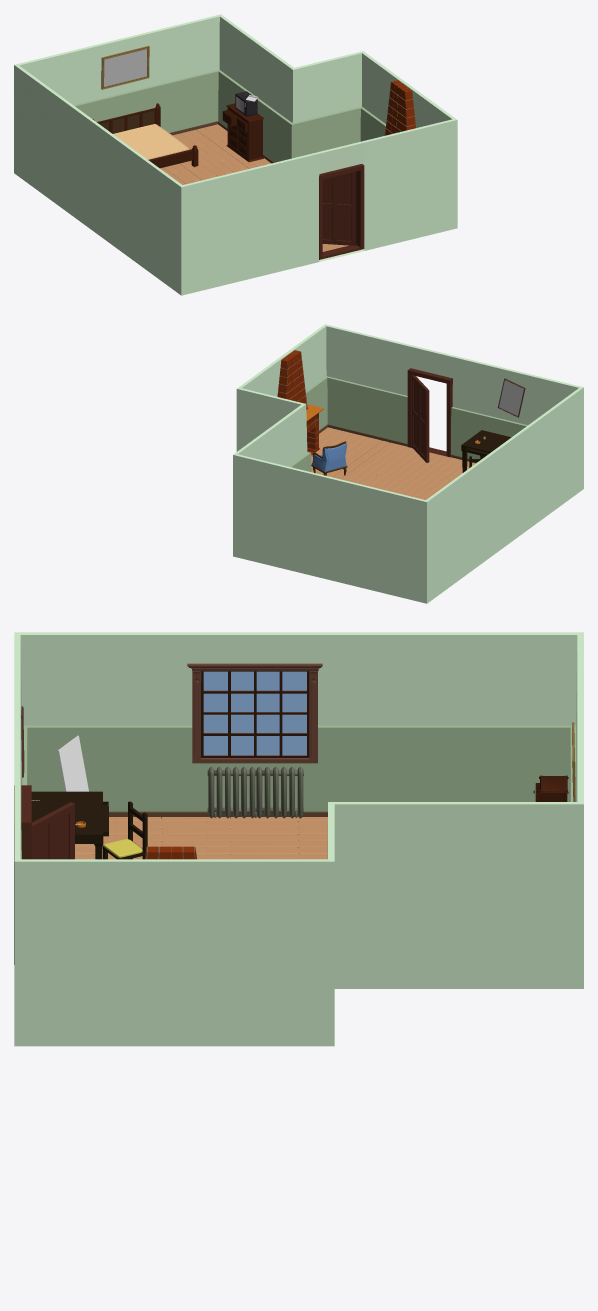
Rendered from Bedroom (1).fbx.
3 views of the same model, one above another, from view 1: azimuth 30°, elevation 25°; view 2: azimuth 150°, elevation 25°; view 3: azimuth 270°, elevation 25° (orthographic). The views are drawn at different scales.
Visible parts, largest first — view 1: Cube.019, Cube.009, Cube.013, Cube.016, Cube.017, Cube.018, Cube.015, Cube.008, Plane.041, Cube.006, Cube.001, mattress (+3 smaller); view 2: Cube.013, Cube.009, Cube.019, Cube.015, Cube.018, Cube.016, Cube.017, Cube.014, Cube.008, Cube.006, Cube.012, MSH_Pillows (+1 smaller); view 3: Cube.009, Cube.018, Cube.016, wind_low, Cube.015, Cube.021, Cube.012, Cube.008, Cube.019, Cube.013, Componen34, Cube.006.
Part boxes in pixels (x1,y1,x2,y2): Cube.019: (181,119,457,295); Cube.009: (14,65,182,295); Cube.013: (14,14,220,132); Cube.016: (218,14,293,163); Cube.017: (291,51,362,158); Cube.018: (360,51,456,141); Cube.015: (160,124,348,251); Cube.008: (322,171,356,245); Plane.041: (101,46,149,89); Cube.006: (319,164,364,259); Cube.001: (92,103,198,168); mattress: (113,124,189,159); Cube.013: (233,454,426,603); Cube.009: (426,387,583,603); Cube.019: (325,324,582,463); Cube.015: (311,427,475,499); Cube.018: (237,324,327,433); Cube.016: (233,404,311,472); Cube.017: (236,388,310,453); Cube.014: (277,350,319,452); Cube.008: (411,375,429,462); Cube.006: (407,368,452,457); Cube.012: (461,430,511,472); MSH_Pillows: (312,442,346,471); Cube.009: (14,632,583,818); Cube.018: (14,859,334,1046); Cube.016: (329,802,583,988); wind_low: (187,663,322,763); Cube.015: (75,817,327,859); Cube.021: (207,766,303,818); Cube.012: (31,791,103,859); Cube.008: (31,802,74,859); Cube.019: (14,632,28,861); Cube.013: (569,632,583,804); Componen34: (57,735,88,791); Cube.006: (14,785,31,964).
Bounding box in the file's own units: 1464 × 404 × 840.
